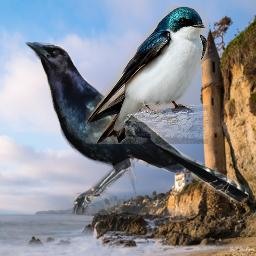Crow: (25, 42, 249, 215)
Swallow: (86, 6, 208, 144)
